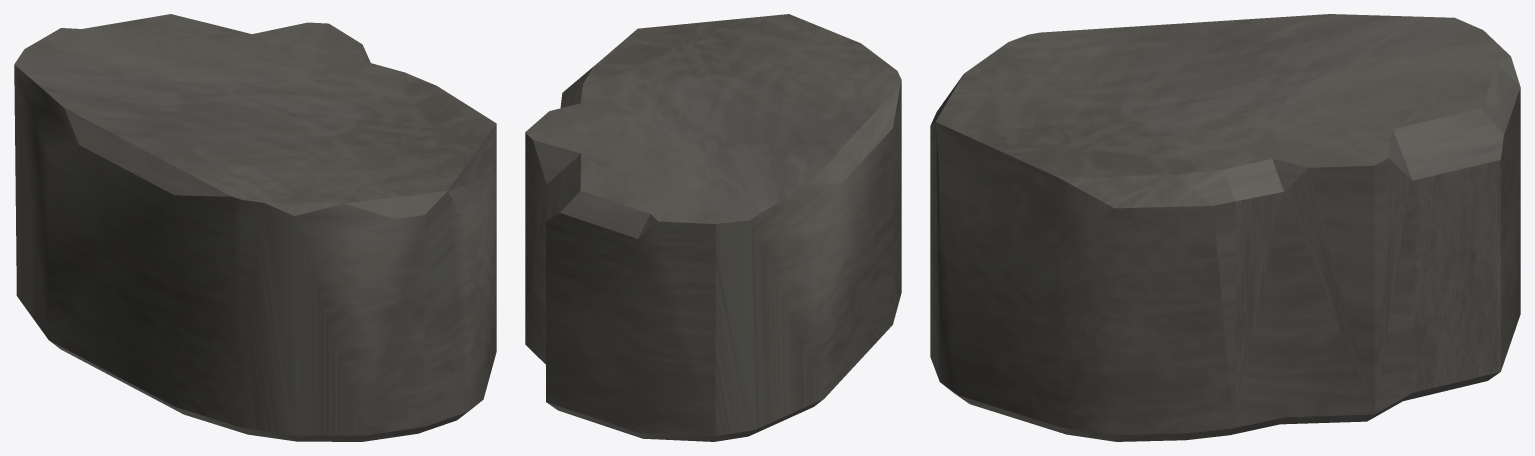
Rendered from ZachMesaRock31.fbx.
The picture shows the model from 3 angles, left to right: view 1: azimuth 30°, elevation 25°; view 2: azimuth 150°, elevation 25°; view 3: azimuth 270°, elevation 25°; orthographic projection. The views are drawn at different scales.
Visible parts, largest first — view 1: ZachMesaRock30; view 2: ZachMesaRock30; view 3: ZachMesaRock30.
Part boxes in pixels (x1,y1,x2,y2): ZachMesaRock30: (14,14,496,441); ZachMesaRock30: (525,14,901,441); ZachMesaRock30: (930,14,1520,441).
Bounding box in the file's own units: 2.97 × 2 × 4.09.
